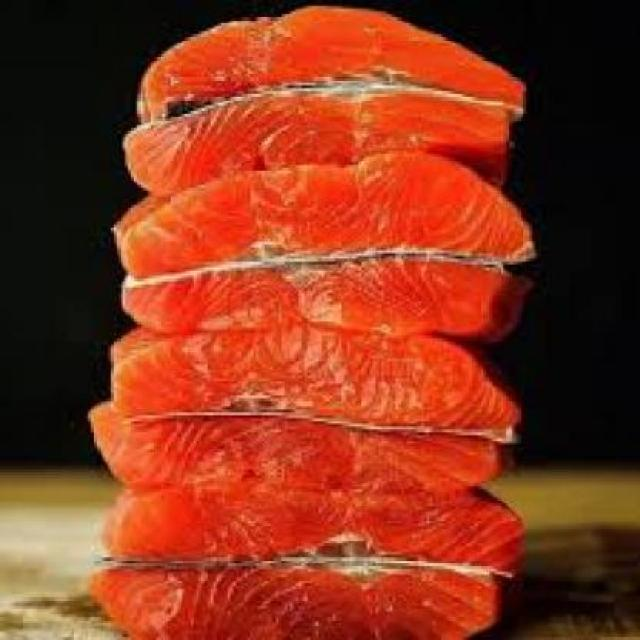salmon: (80, 166, 541, 351), (110, 13, 518, 185), (66, 302, 527, 449), (80, 398, 509, 512), (114, 478, 521, 578), (77, 546, 512, 637)
